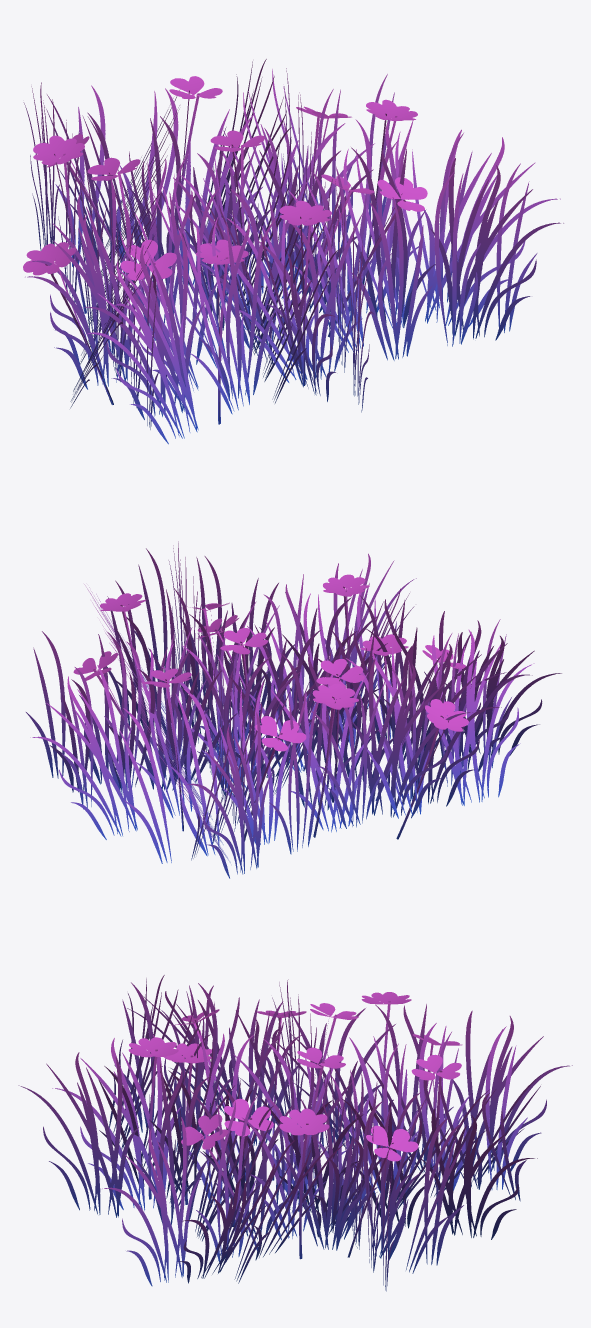
File: GrassPatch_Mid_B.FBX
3 renders of one model, top to bottom at view 1: azimuth 30°, elevation 25°; view 2: azimuth 150°, elevation 25°; view 3: azimuth 270°, elevation 25°, orthographic. The views are drawn at different scales.
Parts seen in each view (by area): view 1: GrassPatch_Mid_B; view 2: GrassPatch_Mid_B; view 3: GrassPatch_Mid_B.
Part boxes in pixels (box(x1,y1,x2,y2)): GrassPatch_Mid_B: box(23, 59, 563, 444); GrassPatch_Mid_B: box(26, 541, 561, 878); GrassPatch_Mid_B: box(18, 975, 572, 1291).
Bounding box in the file's own units: 2.16 × 0.8972 × 2.16.
